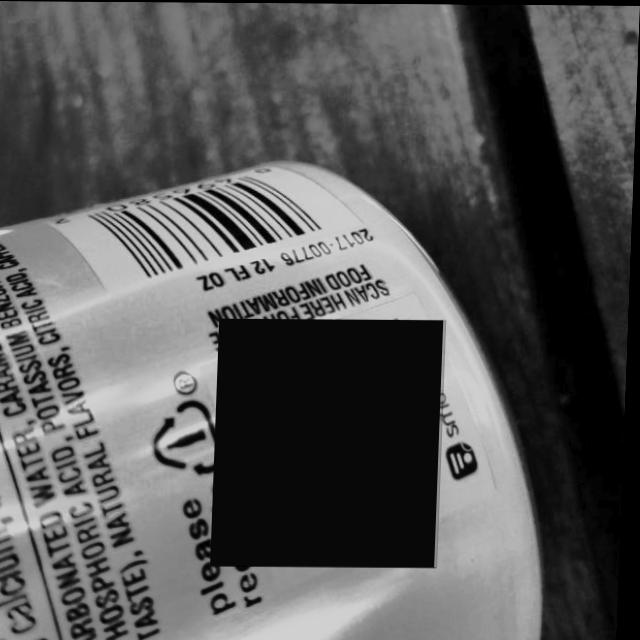qr_code: (215, 317, 448, 566)
